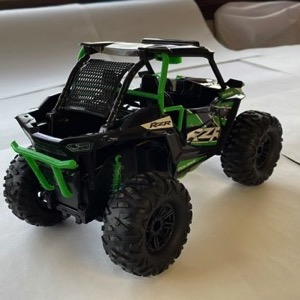polaris: (4, 38, 285, 278)
